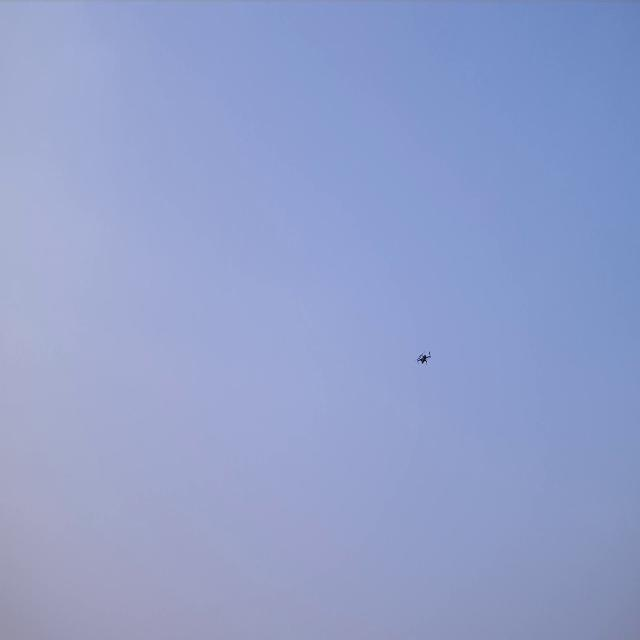UAV: (413, 351, 432, 366)
